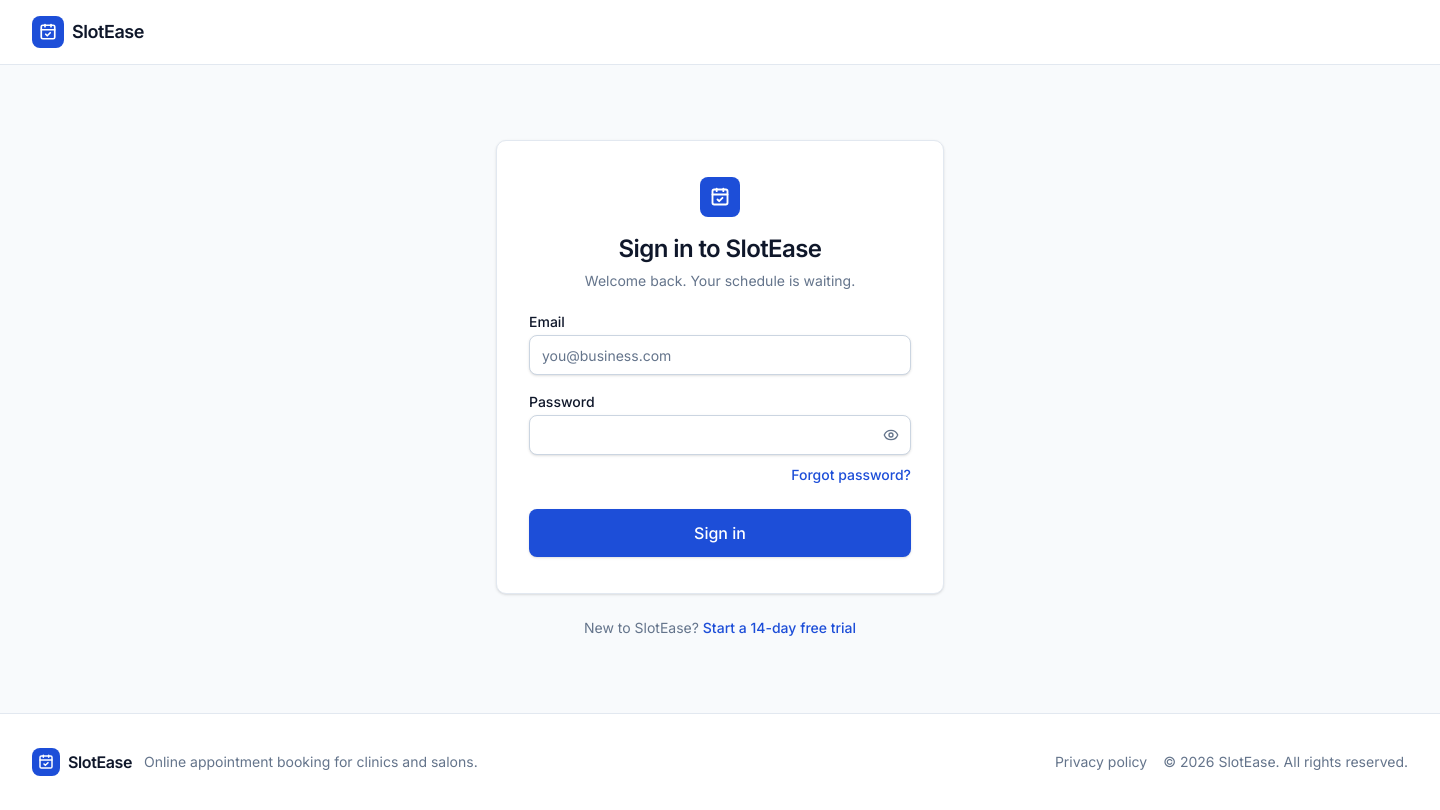
Test: LoginPage › validates required fields
The image size is (1440, 810).
Click the button "Sign in" at (720, 533), box [529,509,911,557]
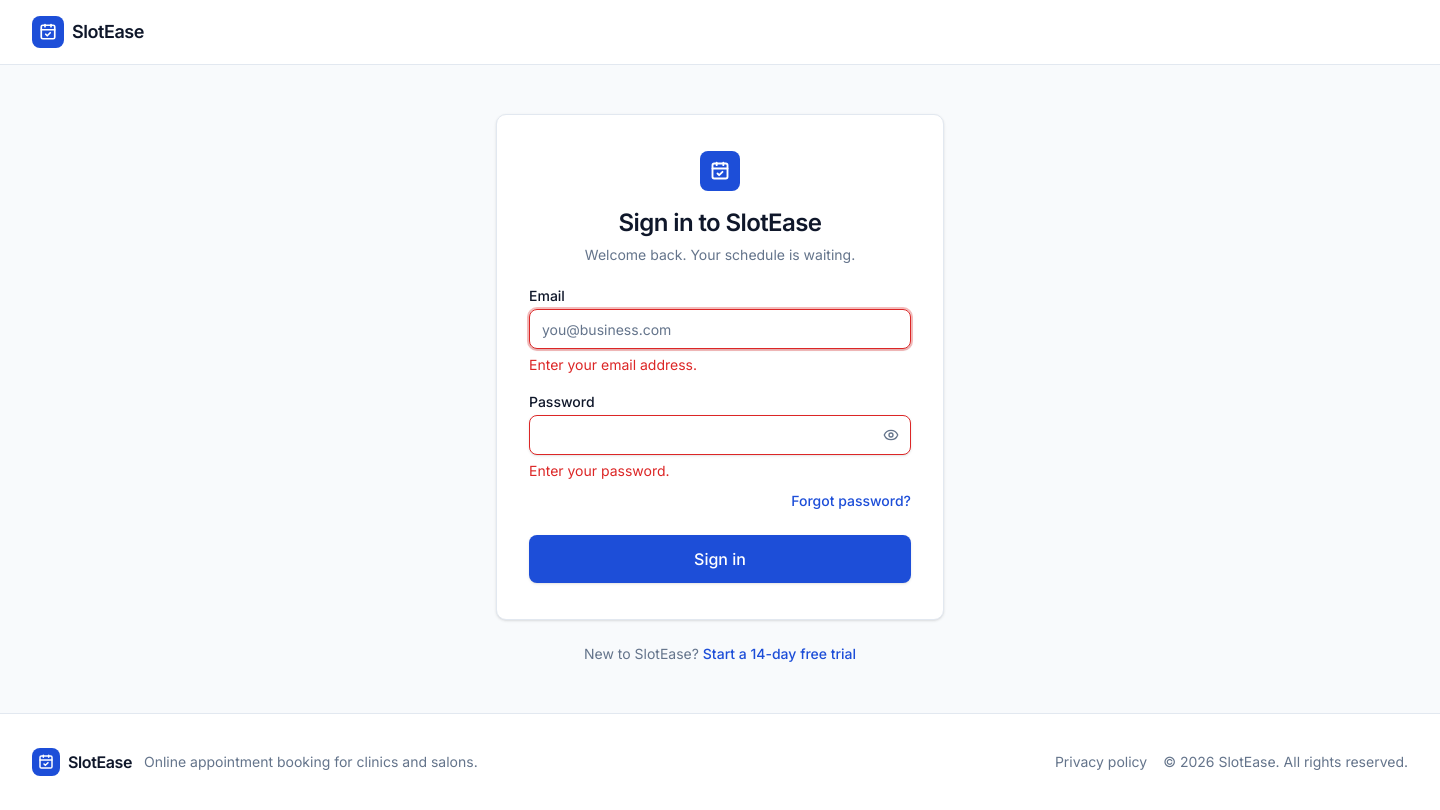
Expected: the text "Enter your email address." is shown, [529,356,697,373]
Expected: the text "Enter your password." is shown, [529,462,670,479]
